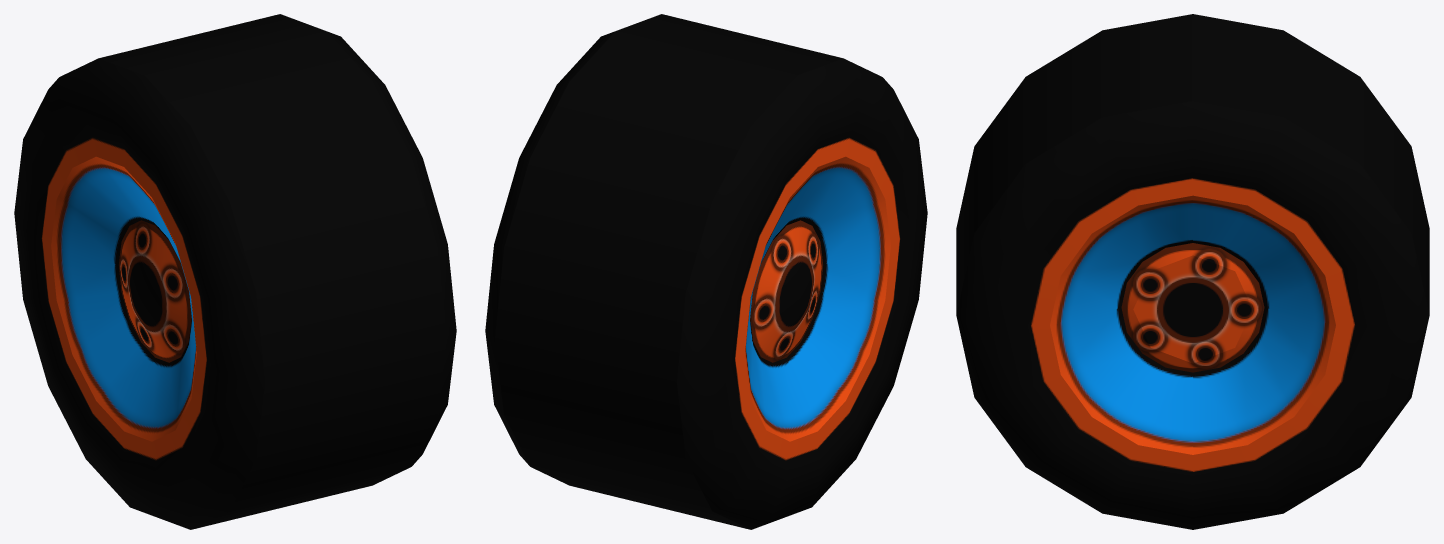
Rendered from wheel_tooncar.FBX.
3 views of the same model, side by side, from view 1: azimuth 30°, elevation 25°; view 2: azimuth 150°, elevation 25°; view 3: azimuth 270°, elevation 25° (orthographic).
Visible parts, largest first — view 1: wheel_toon; view 2: wheel_toon; view 3: wheel_toon.
Part boxes in pixels (bbox=[...]): wheel_toon: bbox=[14, 14, 456, 529]; wheel_toon: bbox=[485, 14, 927, 529]; wheel_toon: bbox=[956, 14, 1429, 529].
Bounding box in the file's own units: 0.0771 × 0.1389 × 0.1389.
